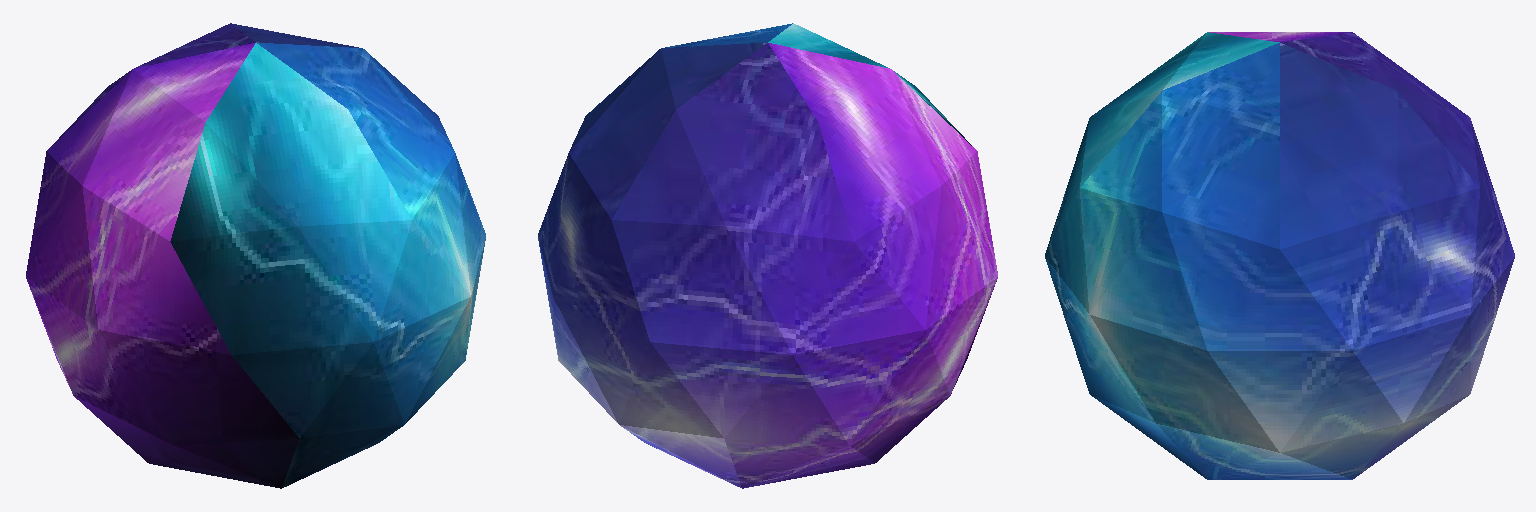
3 views of the same model, side by side, from view 1: azimuth 30°, elevation 25°; view 2: azimuth 150°, elevation 25°; view 3: azimuth 270°, elevation 25° (orthographic).
Parts seen in each view (by area): view 1: ICO球; view 2: ICO球; view 3: ICO球.
Part boxes in pixels (x1,y1,x2,y2): ICO球: (26, 23, 485, 488); ICO球: (538, 23, 997, 488); ICO球: (1045, 32, 1514, 479).
Bounding box in the file's own units: 1.9 × 2 × 2.
1 materials, 1 textured.